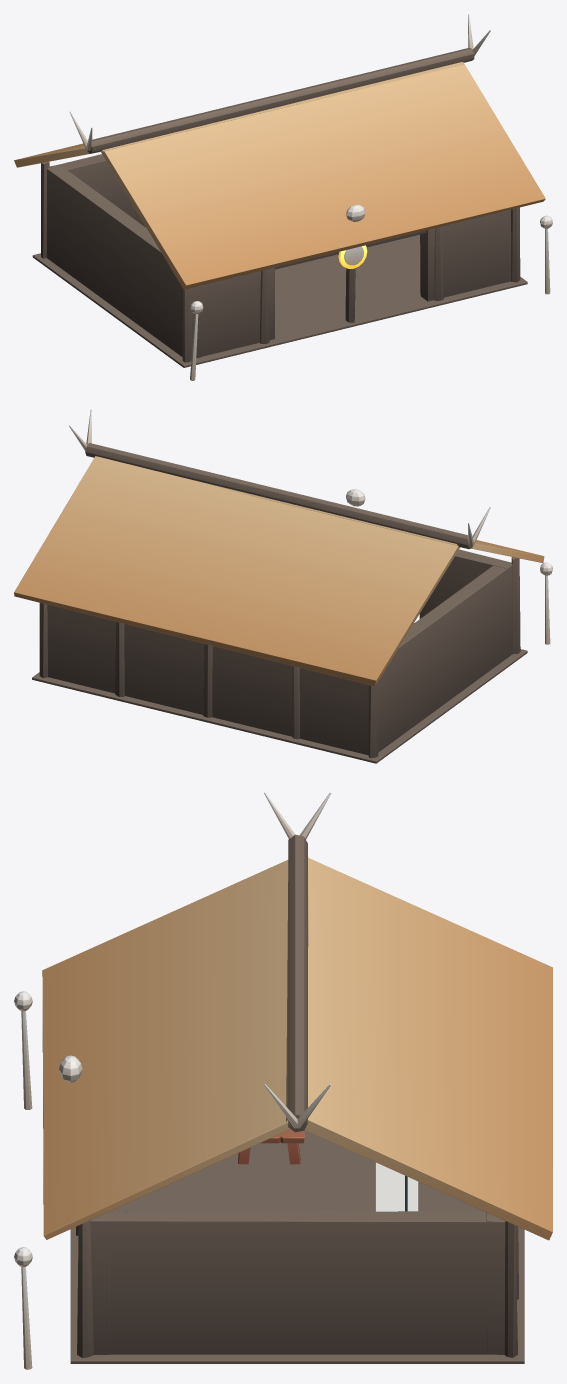
File: bank_murkhold.glb
3 views of the same model, one above another, from view 1: azimuth 30°, elevation 25°; view 2: azimuth 150°, elevation 25°; view 3: azimuth 270°, elevation 25° (orthographic). The views are drawn at different scales.
Visible parts, largest first — view 1: bank_murkhold; view 2: bank_murkhold; view 3: bank_murkhold.
Boxes of the visible parts, left/top/right/bottom form: bank_murkhold: left=14, top=14, right=552, bottom=380; bank_murkhold: left=14, top=409, right=552, bottom=763; bank_murkhold: left=14, top=792, right=552, bottom=1369.
Bounding box in the file's own units: 14.63 × 7.27 × 11.4.
Materials: 4 (4 with a texture image).
